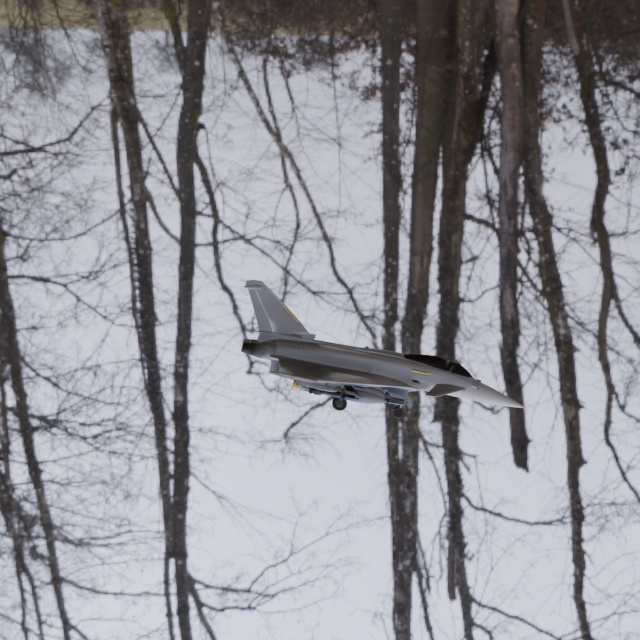eurofighter_typhoon_3d: (219, 267, 565, 468)
